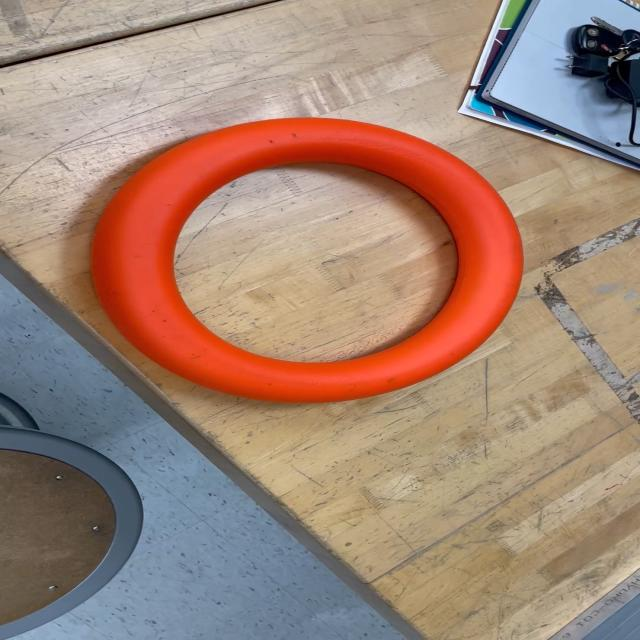note: (83, 114, 529, 408)
